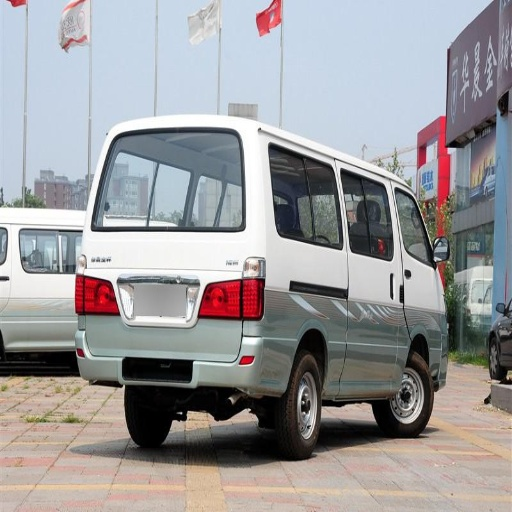back_bumper: (72, 314, 292, 394)
back_left_light: (74, 260, 118, 314)
back_right_door: (272, 154, 324, 243)
tailgate: (78, 232, 214, 329)
trunk: (278, 252, 436, 394), (198, 235, 258, 353)
